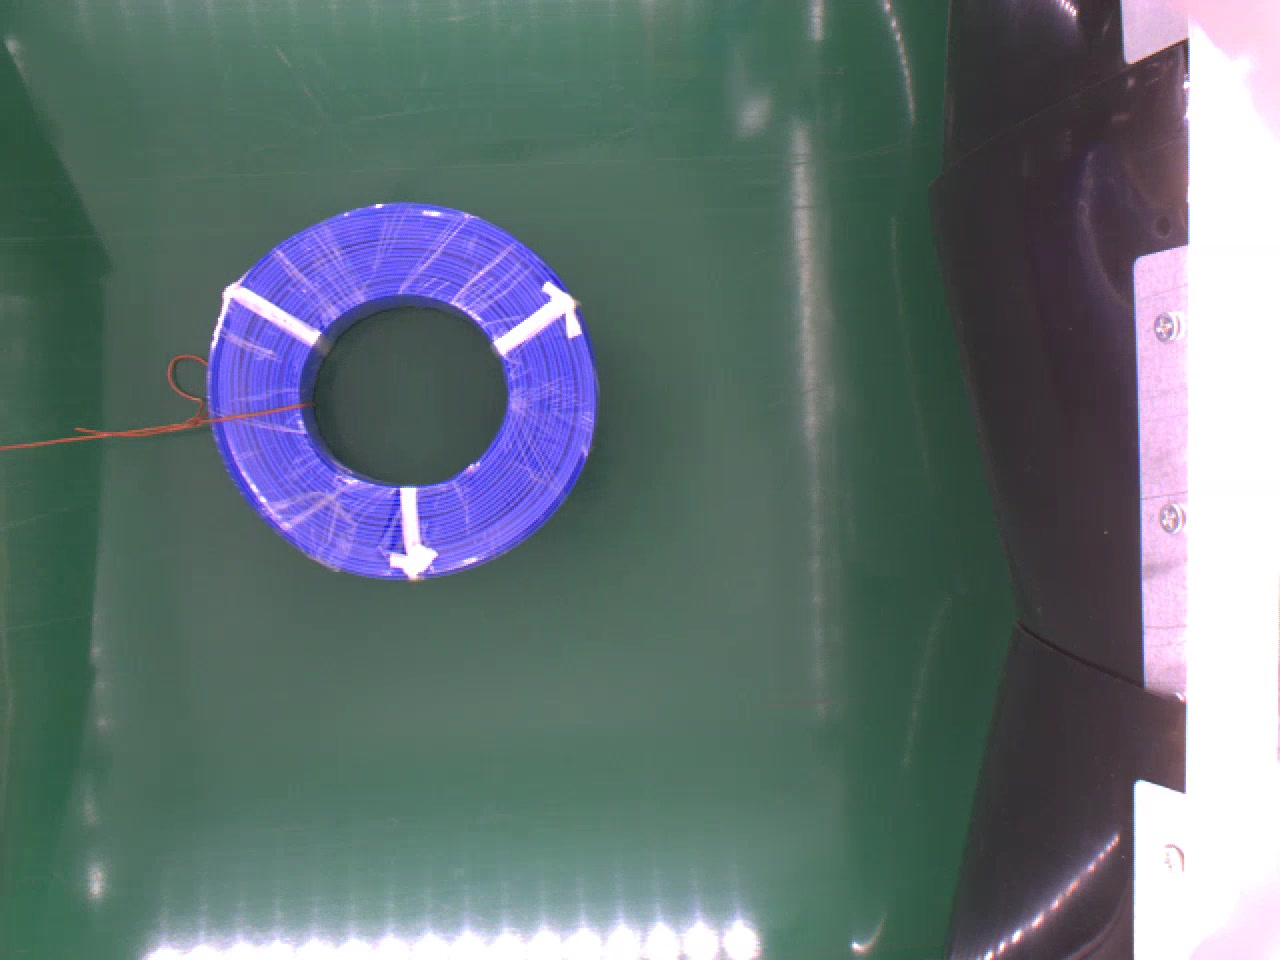blue: (201, 196, 597, 577)
